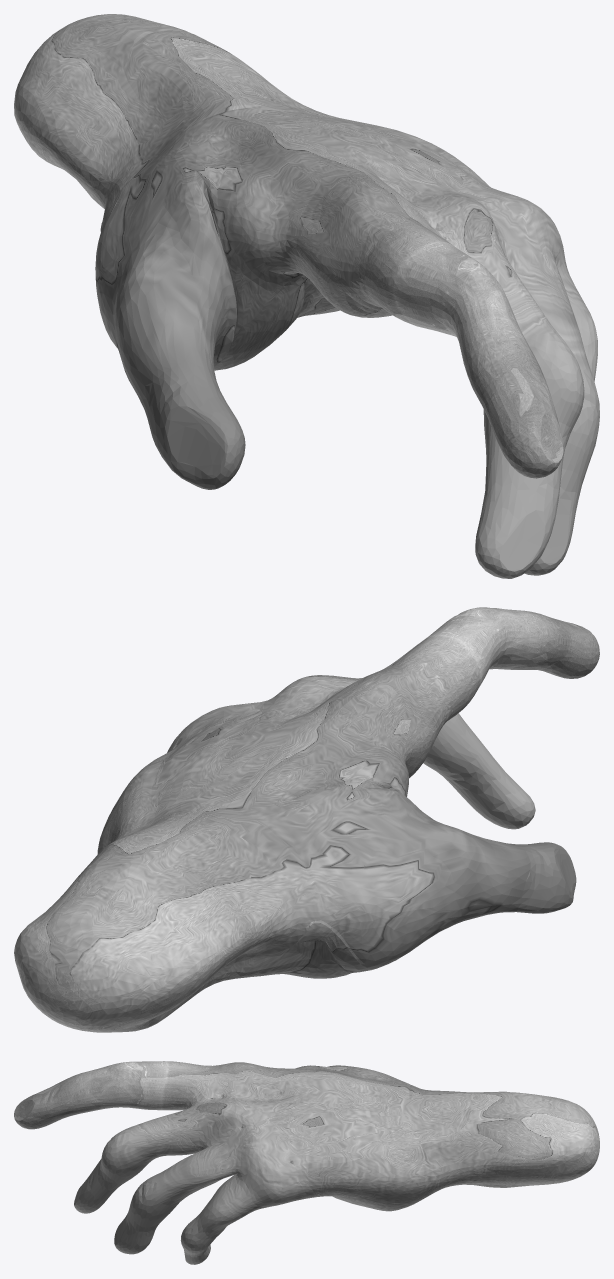
3 renders of one model, top to bottom at view 1: azimuth 30°, elevation 25°; view 2: azimuth 150°, elevation 25°; view 3: azimuth 270°, elevation 25°, orthographic. The views are drawn at different scales.
Visible parts, largest first — view 1: el; view 2: el; view 3: el.
Boxes of the visible parts, x1,y1,x2,y2 form: el: [14, 14, 599, 578]; el: [14, 607, 599, 1032]; el: [14, 1061, 599, 1264].
Bounding box in the file's own units: 771 × 559 × 1722.
